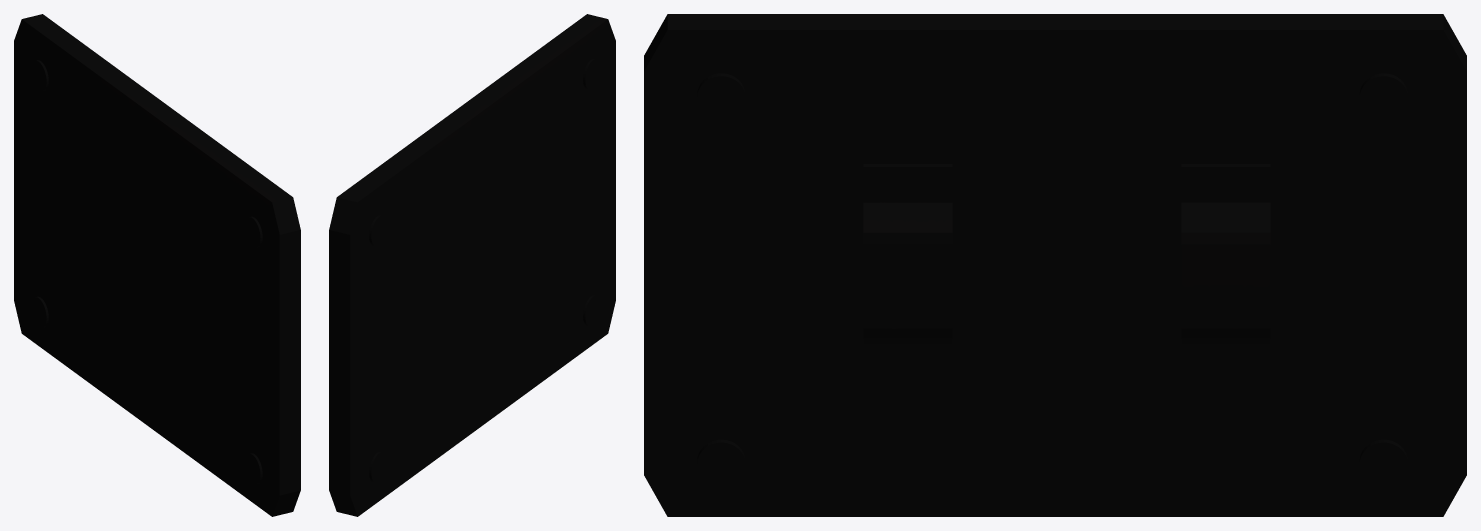
The model's file is podstawka zasuwki1.obj.
3 views of the same model, side by side, from view 1: azimuth 30°, elevation 25°; view 2: azimuth 150°, elevation 25°; view 3: azimuth 270°, elevation 25° (orthographic). The views are drawn at different scales.
Parts seen in each view (by area): view 1: Plane.007_Plane.019; view 2: Plane.007_Plane.019; view 3: Plane.007_Plane.019.
Boxes of the visible parts, left/top/right/bottom form: Plane.007_Plane.019: left=14, top=14, right=300, bottom=516; Plane.007_Plane.019: left=329, top=14, right=615, bottom=516; Plane.007_Plane.019: left=644, top=14, right=1466, bottom=516.
Size of the model in its own units: 0.0138 by 0.0929 by 0.1422.
1 material, 1 textured.
